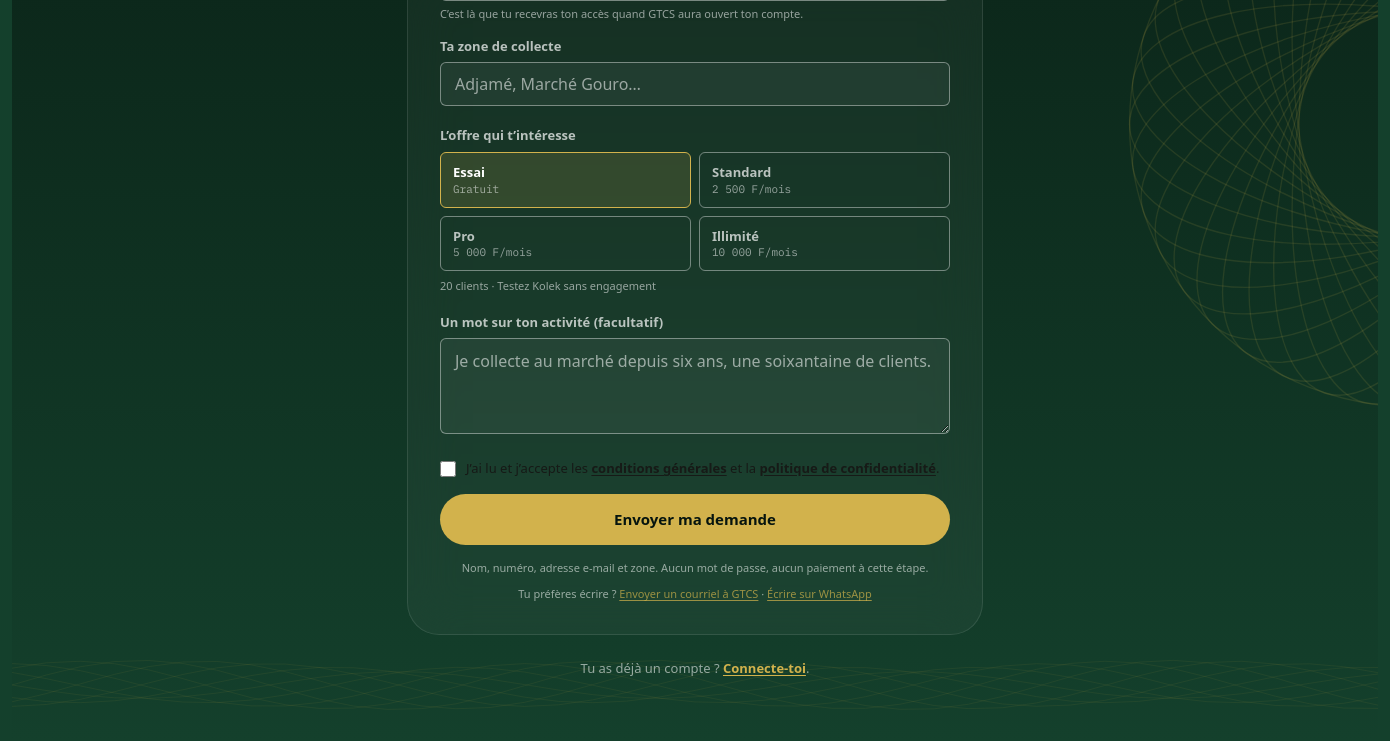
it: ce que le formulaire fait de la réponse › affiche la confirmation quand il n’y a rien à payer
(page scrolled)
Click the checkbox labelled "conditions".
click(448, 470)  # box x1=440 y1=462 x2=456 y2=478
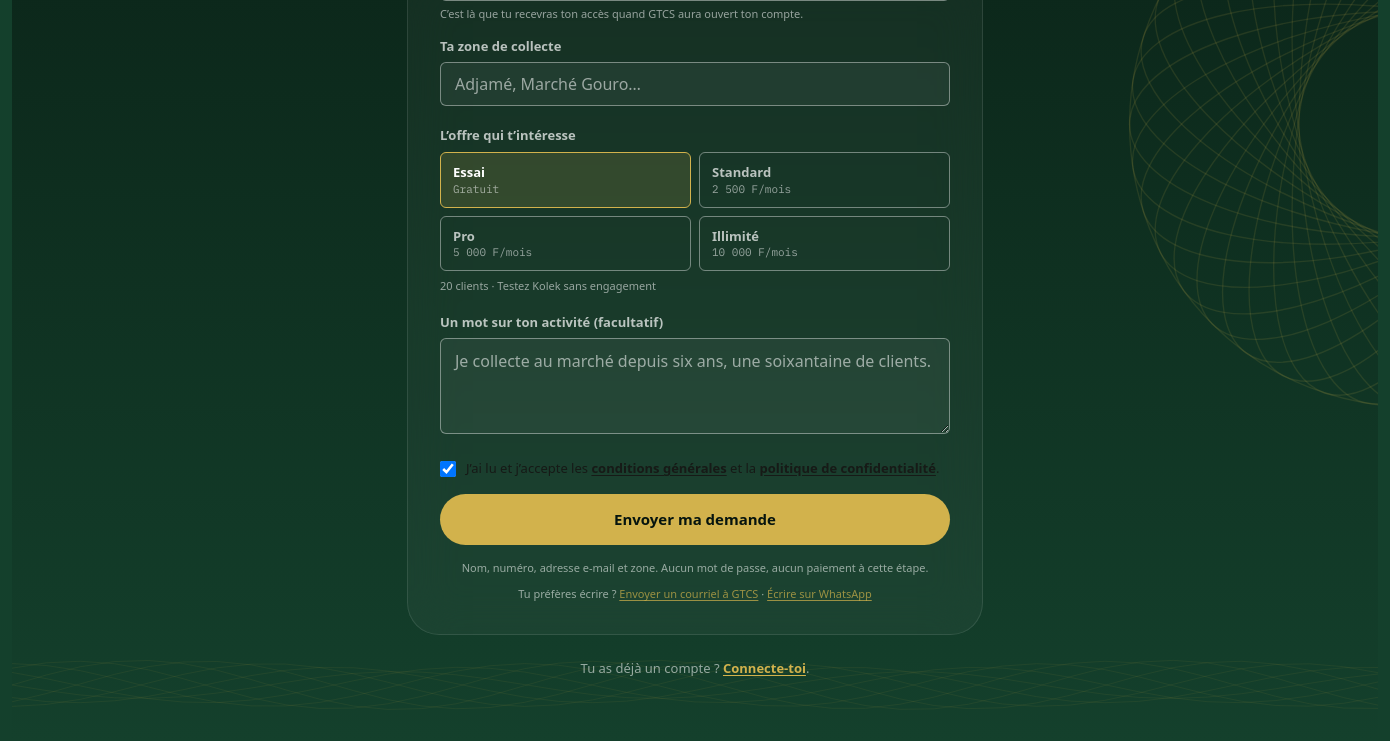
Submit the form from the button "Envoyer ma demande", box x1=440 y1=494 x2=950 y2=544
(page scrolled)
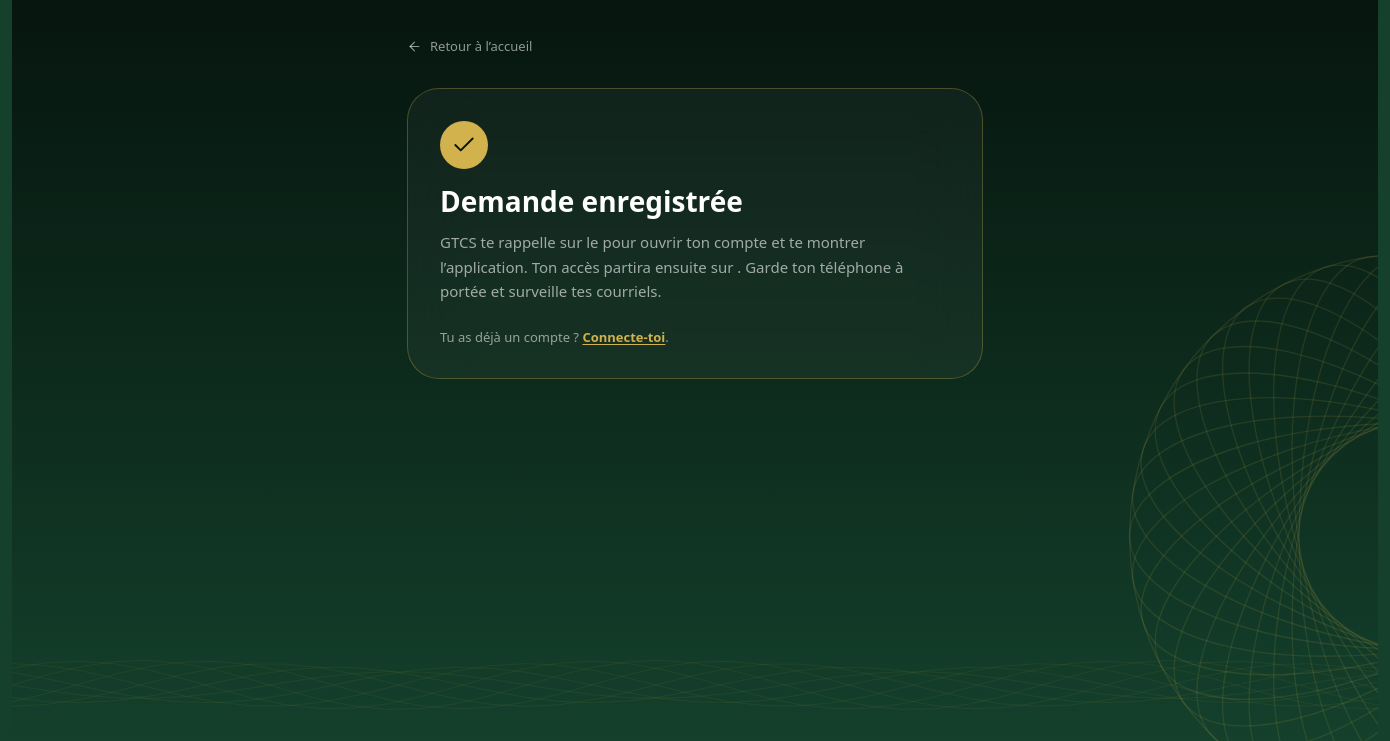
Now the heading "Demande enregistrée" is shown, box x1=440 y1=182 x2=743 y2=220
